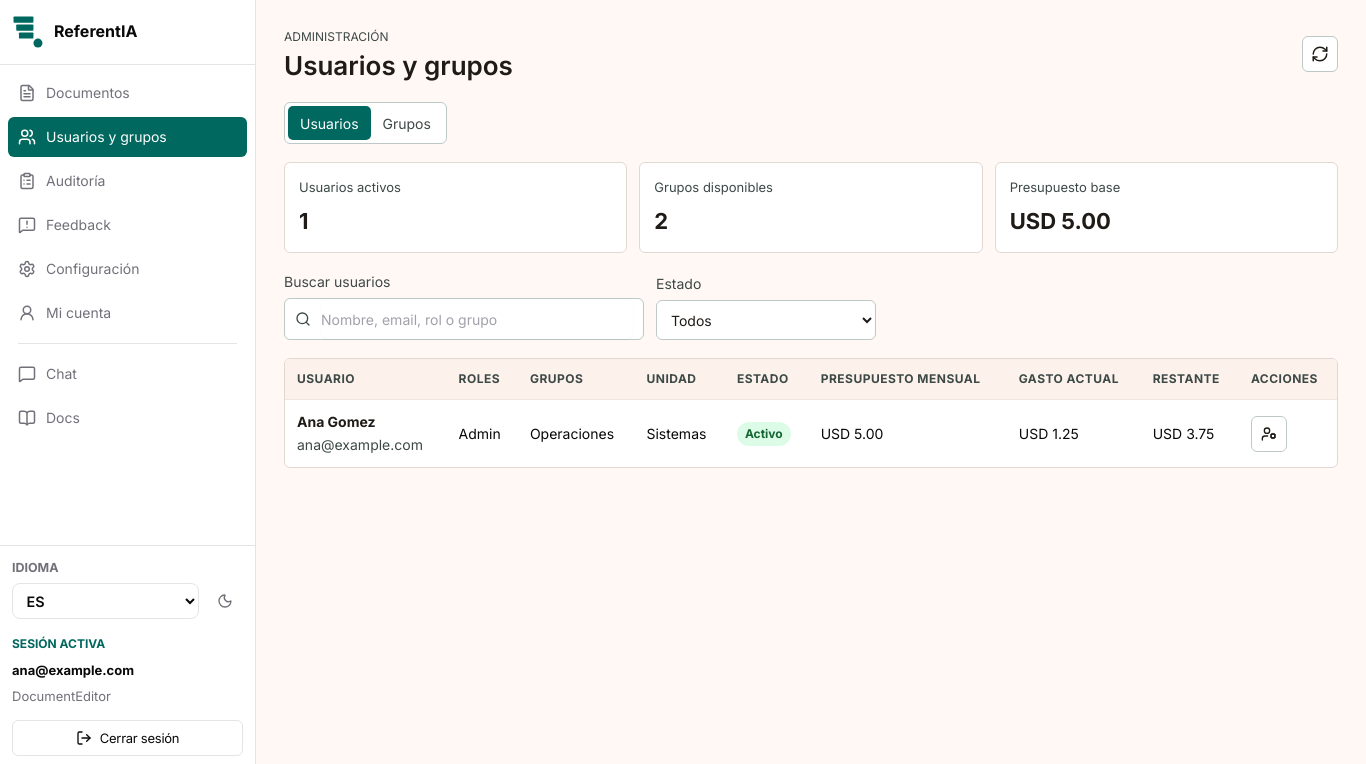
Test case: management documents › hides publish and send-to-review actions from document editors when a document is in review
Click the link "Documentos" at (74, 93), box [18,84,130,102]
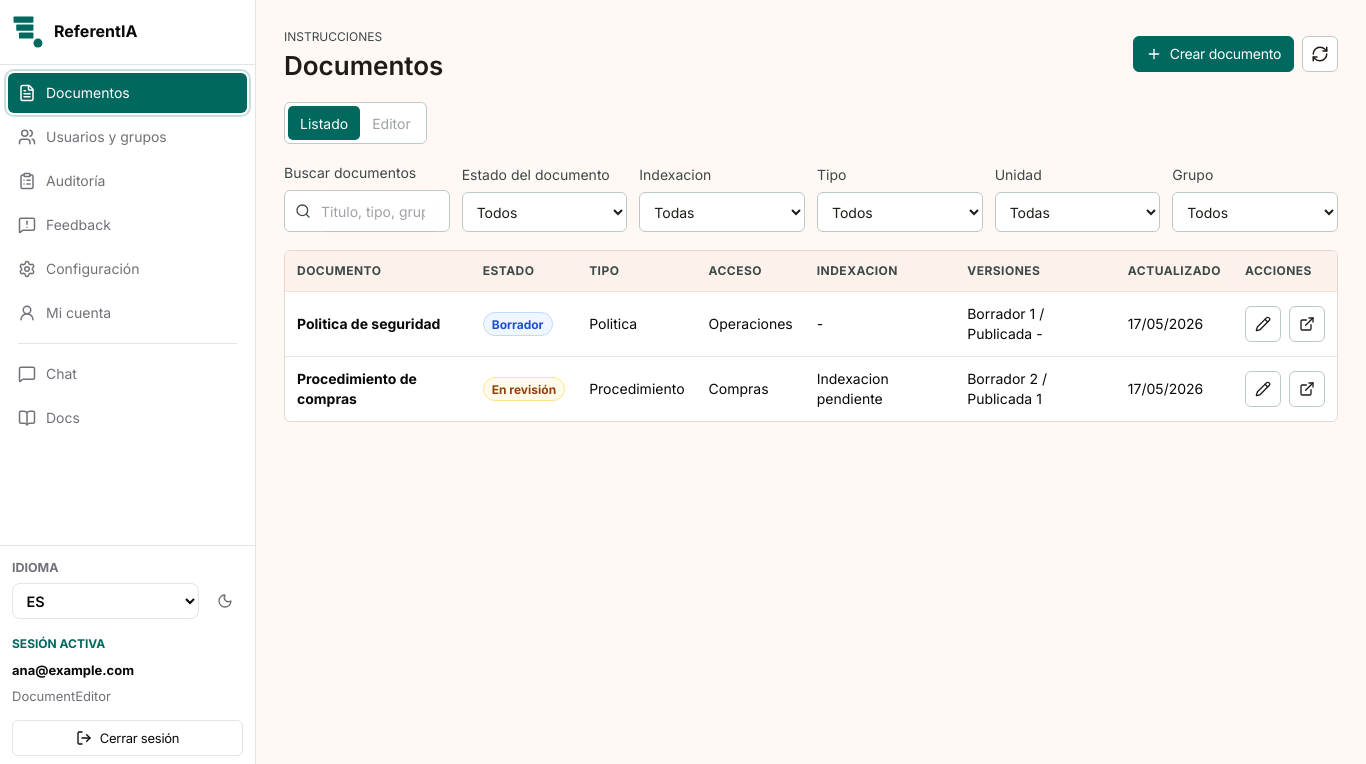
Click the button named "Editar Procedimiento de compras" at (1263, 389), box [1245,371,1281,407]
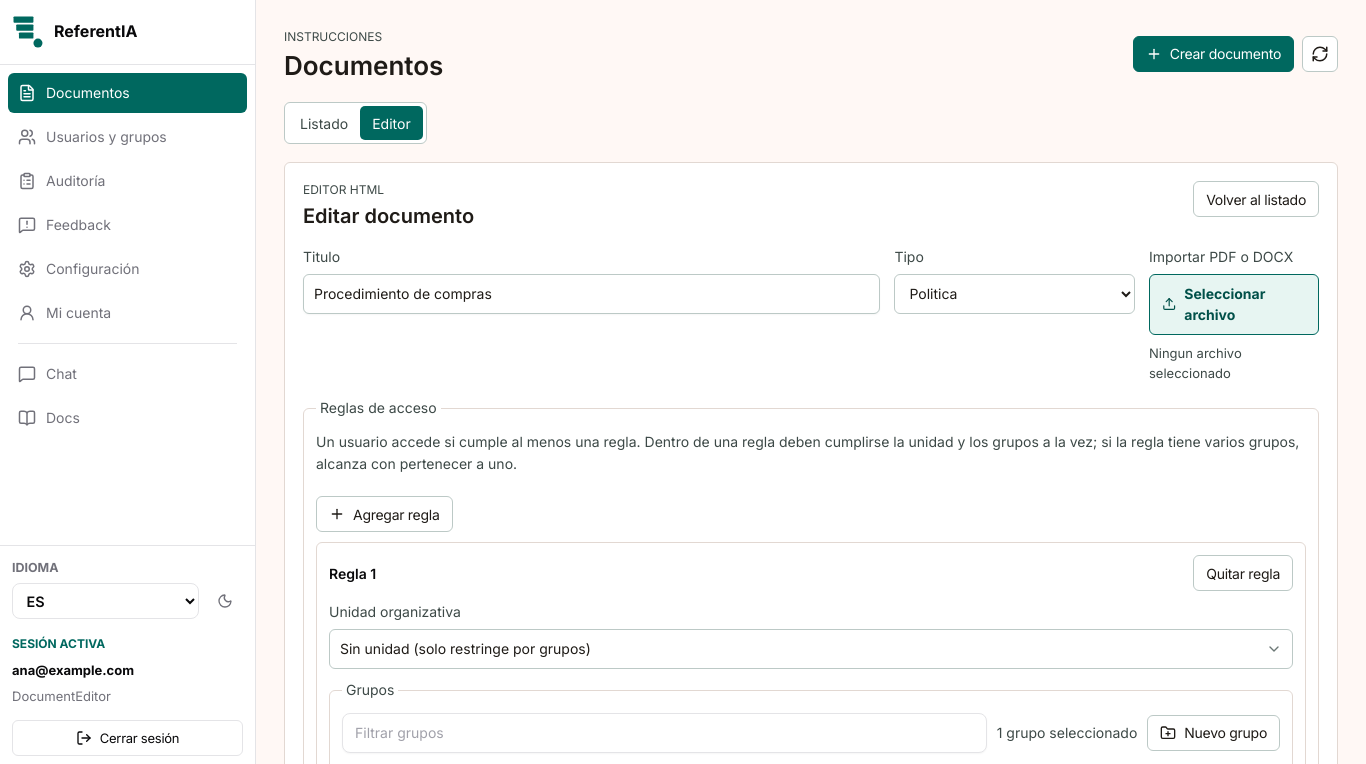
Check: the heading "Editar documento" is shown, box [303,204,474,228]
